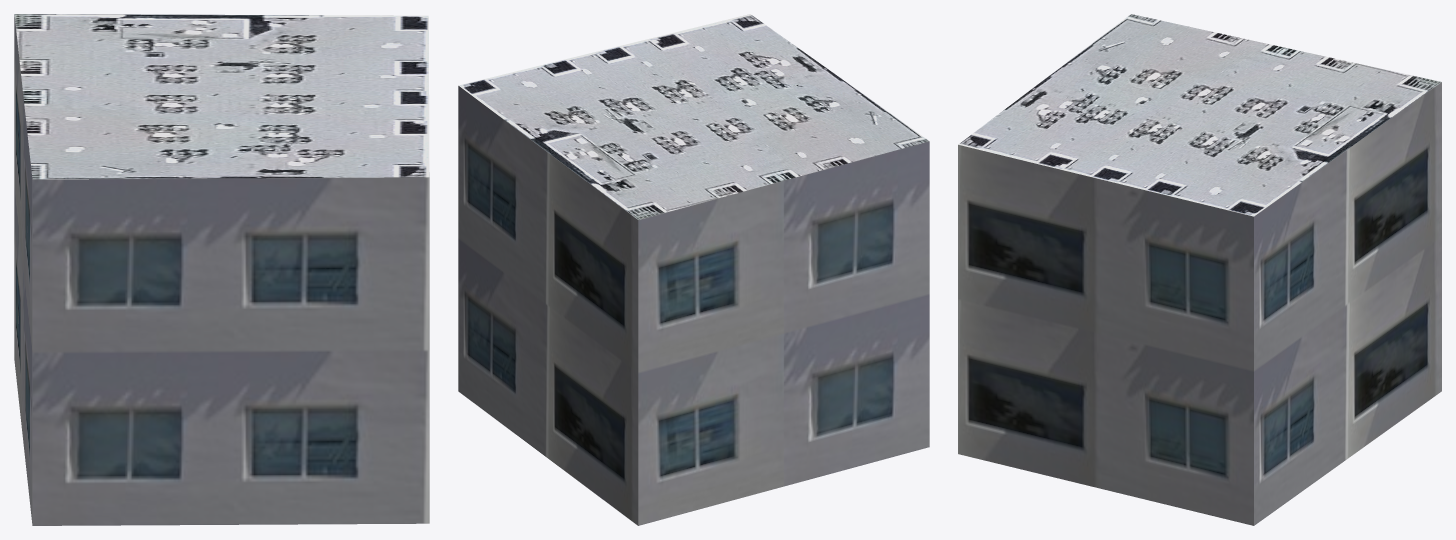
Rendered from ResTex__4427.fbx.
3 views of the same model, side by side, from view 1: azimuth 30°, elevation 25°; view 2: azimuth 150°, elevation 25°; view 3: azimuth 270°, elevation 25° (orthographic). The views are drawn at different scales.
Visible parts, largest first — view 1: CityEngineMaterial_10_m, CityEngineMaterial_4_m; view 2: CityEngineMaterial_10_m, CityEngineMaterial_4_m; view 3: CityEngineMaterial_10_m, CityEngineMaterial_4_m.
Part boxes in pixels (bbox=[...]): CityEngineMaterial_10_m: bbox=[14, 14, 429, 525]; CityEngineMaterial_4_m: bbox=[14, 14, 429, 179]; CityEngineMaterial_10_m: bbox=[458, 86, 929, 525]; CityEngineMaterial_4_m: bbox=[458, 14, 928, 219]; CityEngineMaterial_10_m: bbox=[958, 82, 1441, 525]; CityEngineMaterial_4_m: bbox=[958, 14, 1441, 216].
Size of the model in its own units: 8.43 by 6 by 8.51.
2 materials, 2 textured.
